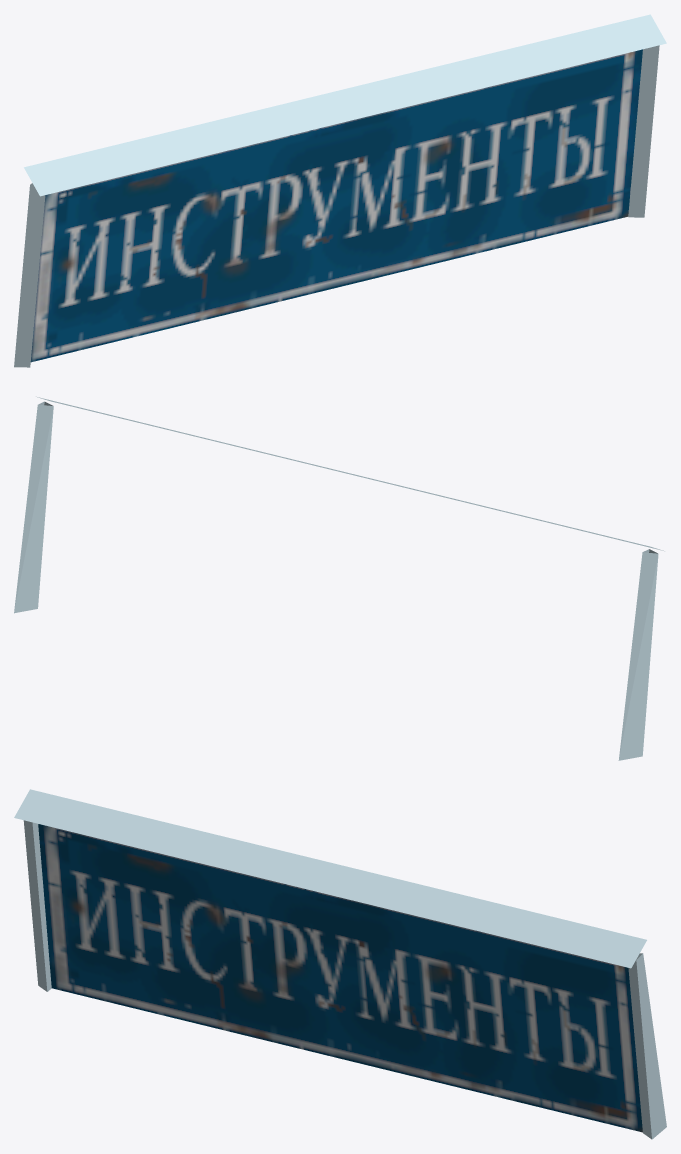
The model's file is Schild_Hardware_2009.glb.
3 renders of one model, top to bottom at view 1: azimuth 30°, elevation 25°; view 2: azimuth 150°, elevation 25°; view 3: azimuth 330°, elevation 25°, orthographic.
Visible parts, largest first — view 1: pPlaneShape90, pPlaneShape91, pCylinderShape160, pCylinderShape159; view 2: pCylinderShape160, pCylinderShape159, pPlaneShape91; view 3: pPlaneShape90, pPlaneShape91, pCylinderShape159, pCylinderShape160.
Part boxes in pixels (x1,y1,x2,y2): pPlaneShape90: (30,49,642,362); pPlaneShape91: (24,14,666,196); pCylinderShape160: (14,183,45,367); pCylinderShape159: (628,45,659,217); pCylinderShape160: (618,549,658,760); pCylinderShape159: (14,401,53,613); pPlaneShape91: (36,396,664,551); pPlaneShape90: (38,824,642,1132); pPlaneShape91: (14,789,646,968); pCylinderShape159: (628,953,666,1139); pCylinderShape160: (23,820,51,991).
Size of the model in its own units: 0.8716 by 0.2749 by 0.0889.
Materials: 4 (1 with a texture image).
